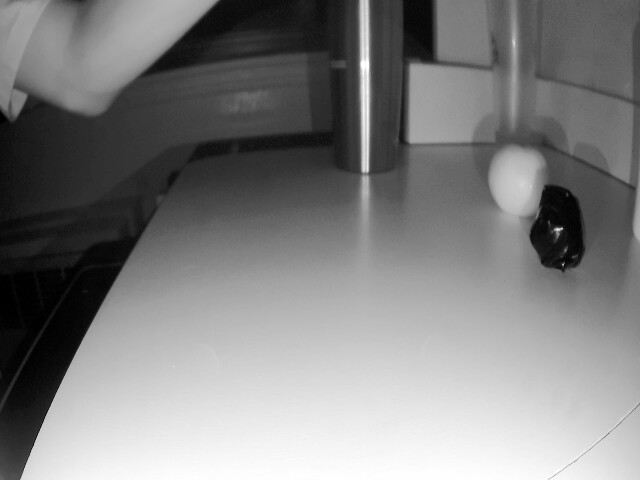black: (526, 178, 596, 261)
